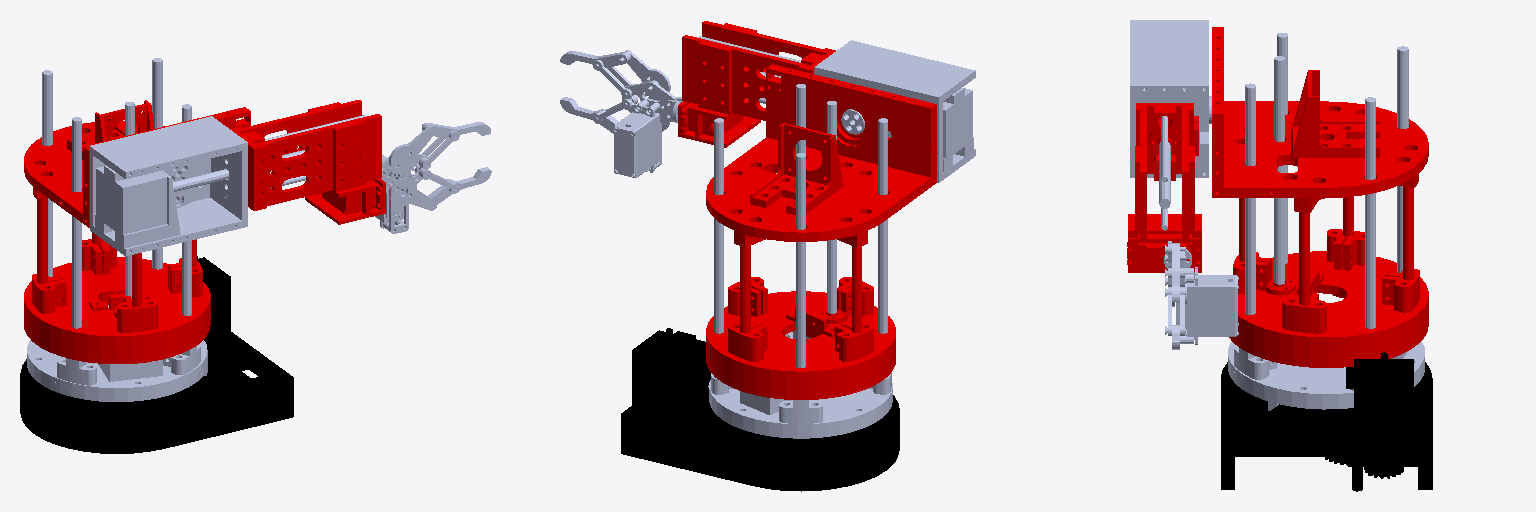
robot.urdf — asabe_robot_description:
<?xml version="1.0" encoding="utf-8"?>
<!-- This URDF was automatically created by SolidWorks to URDF Exporter! Originally created by [author] ([email redacted]) 
     Commit Version: 1.6.0-4-g7f85cfe  Build Version: 1.6.7995.38578
     For more information, please see http://wiki.ros.org/sw_urdf_exporter -->
<robot
  name="asabe_robot_description">
  <link
    name="base_link">
    <visual>
      <origin
        xyz="0 0 0"
        rpy="0 0 0" />
      <geometry>
        <mesh
          filename="package://asabe_robot_description/meshes/base_link.STL" />
      </geometry>
      <material
        name="">
        <color
          rgba="0.79216 0.81961 0.93333 1" />
      </material>
    </visual>
    <collision>
      <origin
        xyz="0 0 0"
        rpy="0 0 0" />
      <geometry>
        <mesh
          filename="package://asabe_robot_description/meshes/base_link.STL" />
      </geometry>
    </collision>
  </link>

  <link
    name="base">
    <inertial>
      <origin
        xyz="0.01912 0.0011886 0.0092468"
        rpy="0 0 0" />
      <mass
        value="0.78986" />
      <inertia
        ixx="0.0020986"
        ixy="-1.3798E-07"
        ixz="-2.0391E-05"
        iyy="0.0033408"
        iyz="4.2971E-07"
        izz="0.0053539" />
    </inertial>
    <visual>
      <origin
        xyz="0 0 0"
        rpy="0 0 0" />
      <geometry>
        <mesh
          filename="package://asabe_robot_description/meshes/base_link.STL" />
      </geometry>
      <material
        name="">
        <color
          rgba="0.79216 0.81961 0.93333 1" />
      </material>
    </visual>
    <collision>
      <origin
        xyz="0 0 0"
        rpy="0 0 0" />
      <geometry>
        <mesh
          filename="package://asabe_robot_description/meshes/base_link.STL" />
      </geometry>
    </collision>
  </link>

   <joint
    name="Joint_base"
    type="fixed">
    <origin
      xyz="0 0 0"
      rpy="0 0 0" />
    <parent
      link="base_link" />
    <child
      link="base" />
    <axis
      xyz="0 0 0" />
  </joint>

  <link
    name="Link_arm1">
    <inertial>
      <origin
        xyz="0.033146 0.009228 0.027122"
        rpy="0 0 0" />
      <mass
        value="0.52977" />
      <inertia
        ixx="0.00086749"
        ixy="-2.5625E-05"
        ixz="-1.7029E-05"
        iyy="0.0010469"
        iyz="3.1451E-06"
        izz="0.0018174" />
    </inertial>
    <visual>
      <origin
        xyz="0 0 0"
        rpy="0 0 0" />
      <geometry>
        <mesh
          filename="package://asabe_robot_description/meshes/Link_arm1.STL" />
      </geometry>
      <material
        name="">
        <color
          rgba="0 0 0 1" />
      </material>
    </visual>
    <collision>
      <origin
        xyz="0 0 0"
        rpy="0 0 0" />
      <geometry>
        <mesh
          filename="package://asabe_robot_description/meshes/Link_arm1.STL" />
      </geometry>
    </collision>
  </link>

  <joint
    name="Joint_arm1"
    type="fixed">
    <origin
      xyz="-0.084 0 0"
      rpy="0 0 0" />
    <parent
      link="base" />
    <child
      link="Link_arm1" />
    <axis
      xyz="0 0 0" />
  </joint>


  <link
    name="Link_arm2">
    <inertial>
      <origin
        xyz="-0.0012502 -0.0044304 0.035885"
        rpy="0 0 0" />
      <mass
        value="0.38055" />
      <inertia
        ixx="0.00059052"
        ixy="3.1075E-06"
        ixz="4.3079E-07"
        iyy="0.00059801"
        iyz="5.6852E-07"
        izz="0.00046663" />
    </inertial>
    <visual>
      <origin
        xyz="0 0 0"
        rpy="0 0 0" />
      <geometry>
        <mesh
          filename="package://asabe_robot_description/meshes/Link_arm2.STL" />
      </geometry>
      <material
        name="">
        <color
          rgba="0.79216 0.81961 0.93333 1" />
      </material>
    </visual>
    <collision>
      <origin
        xyz="0 0 0"
        rpy="0 0 0" />
      <geometry>
        <mesh
          filename="package://asabe_robot_description/meshes/Link_arm2.STL" />
      </geometry>
    </collision>
  </link>

  <joint
    name="Joint_arm2"
    type="revolute">
    <origin
      xyz="0 0 0.035"
      rpy="0 0 0" />
    <parent
      link="Link_arm1" />
    <child
      link="Link_arm2" />
    <axis
      xyz="0 0 -1" />
    <limit
      lower="0"
      upper="5.0"
      velocity="0.5" 
      effort="0"/>
  </joint>


  <link
    name="Link_arm3">
    <inertial>
      <origin
        xyz="-0.00014558 -0.012857 0.080902"
        rpy="0 0 0" />
      <mass
        value="0.52829" />
      <inertia
        ixx="0.00092741"
        ixy="3.0845E-06"
        ixz="2.0717E-07"
        iyy="0.00083924"
        iyz="0.0001015"
        izz="0.0015259" />
    </inertial>
    <visual>
      <origin
        xyz="0 0 0"
        rpy="0 0 0" />
      <geometry>
        <mesh
          filename="package://asabe_robot_description/meshes/Link_arm3.STL" />
      </geometry>
      <material
        name="">
        <color
          rgba="1 0 0 1" />
      </material>
    </visual>
    <collision>
      <origin
        xyz="0 0 0"
        rpy="0 0 0" />
      <geometry>
        <mesh
          filename="package://asabe_robot_description/meshes/Link_arm3.STL" />
      </geometry>
    </collision>
  </link>

  <joint
    name="Joint_arm3"
    type="prismatic">
    <origin
      xyz="0 0 0.0405"
      rpy="0 0 0" />
    <parent
      link="Link_arm2" />
    <child
      link="Link_arm3" />
    <axis
      xyz="0 0 1" />
    <limit
      lower="0"
      upper="0.18"
      velocity="0.03" 
      effort="0"/>
  </joint>


  <link
    name="Link_arm4">
    <inertial>
      <origin
        xyz="-0.021335 0.0014098 -0.024892"
        rpy="0 0 0" />
      <mass
        value="0.23793" />
      <inertia
        ixx="0.00016138"
        ixy="-6.1184E-07"
        ixz="2.2904E-06"
        iyy="0.00030915"
        iyz="-5.1236E-07"
        izz="0.00036857" />
    </inertial>
    <visual>
      <origin
        xyz="0 0 0"
        rpy="0 0 0" />
      <geometry>
        <mesh
          filename="package://asabe_robot_description/meshes/Link_arm4.STL" />
      </geometry>
      <material
        name="">
        <color
          rgba="0.79216 0.81961 0.93333 1" />
      </material>
    </visual>
    <collision>
      <origin
        xyz="0 0 0"
        rpy="0 0 0" />
      <geometry>
        <mesh
          filename="package://asabe_robot_description/meshes/Link_arm4.STL" />
      </geometry>
    </collision>
  </link>

  <joint
    name="Joint_arm4"
    type="revolute">
    <origin
      xyz="0 -0.0835 0.16784"
      rpy="-1.5708 0 0" />
    <parent
      link="Link_arm3" />
    <child
      link="Link_arm4" />
    <axis
      xyz="0 0 1" />
    <limit
      lower="0"
      upper="1.5708"
      effort="0"
      velocity="0.5" />
  </joint>


  <link
    name="Link_arm5">
    <inertial>
      <origin
        xyz="0.00033505 -0.013271 0.067796"
        rpy="0 0 0" />
      <mass
        value="0.12412" />
      <inertia
        ixx="9.7134E-05"
        ixy="3.5937E-15"
        ixz="-2.6794E-08"
        iyy="7.7548E-05"
        iyz="2.0589E-06"
        izz="4.6907E-05" />
    </inertial>
    <visual>
      <origin
        xyz="0 0 0"
        rpy="3.14159 0 0" />
      <geometry>
        <mesh
          filename="package://asabe_robot_description/meshes/Link_arm5.STL" />
      </geometry>
      <material
        name="">
        <color
          rgba="1 0 0 1" />
      </material>
    </visual>
    <collision>
      <origin
        xyz="0 0 0"
        rpy="3.14159 0 0" />
      <geometry>
        <mesh
          filename="package://asabe_robot_description/meshes/Link_arm5.STL" />
      </geometry>
    </collision>
  </link>

  <joint
    name="Joint_arm5"
    type="prismatic">
    <origin
      xyz="0.0445 0 -0.031"
      rpy="0 -1.5708 0" />
    <parent
      link="Link_arm4" />
    <child
      link="Link_arm5" />
    <axis
      xyz="0 0 -1" />
    <limit
      lower="0"
      upper="0.1"
      effort="0"
      velocity="0.03" />
  </joint>


  <link
    name="Link_arm6">
    <inertial>
      <origin
        xyz="0.008683 -0.014046 0.034385"
        rpy="0 0 0" />
      <mass
        value="0.043811" />
      <inertia
        ixx="9.1016E-06"
        ixy="7.2728E-08"
        ixz="4.0116E-09"
        iyy="4.5879E-06"
        iyz="-5.5331E-08"
        izz="6.5899E-06" />
    </inertial>
    <visual>
      <origin
        xyz="0 0 0"
        rpy="0 0 0" />
      <geometry>
        <mesh
          filename="package://asabe_robot_description/meshes/Link_arm6.STL" />
      </geometry>
      <material
        name="">
        <color
          rgba="0.79216 0.81961 0.93333 1" />
      </material>
    </visual>
    <collision>
      <origin
        xyz="0 0 0"
        rpy="0 0 0" />
      <geometry>
        <mesh
          filename="package://asabe_robot_description/meshes/Link_arm6.STL" />
      </geometry>
    </collision>
  </link>

  <joint
    name="Joint_arm6"
    type="fixed">
    <origin
      xyz="0.0094 0.0397 -0.12045"
      rpy="0 3.14159 3.14159" />
    <parent
      link="Link_arm5" />
    <child
      link="Link_arm6" />
    <axis
      xyz="0 0 1" />
    <limit
      lower="-3.14"
      upper="3.14"
      effort="0"
      velocity="0" />
  </joint>

    <link
    name="grasp_point">
  </link>

  <joint
    name="Joint_grasp_point"
    type="fixed">
    <origin
      xyz="0 0 0.1"
      rpy="3.14159 -1.5707 0" />
    <parent
      link="Link_arm6" />
    <child
      link="grasp_point" />
    <axis
      xyz="0 0 0" />
  </joint>

  <ros2_control name="asabe_robot_description" type="system">
    <hardware>
      <plugin>stepper_hardware/StepperHardware</plugin>
      <param name="usb_port">/dev/ttyUSB0</param>
      <param name="baud_rate">57600</param>
    </hardware>

    <joint name="Joint_arm2">
      <command_interface name="position"/>
      <command_interface name="velocity"/>
      <state_interface name="position"/>
      <state_interface name="velocity"/>\
    </joint>

    <joint name="Joint_arm3">
      <command_interface name="position"/>
      <command_interface name="velocity"/>
      <state_interface name="position"/>
      <state_interface name="velocity"/>\
    </joint>

    <joint name="Joint_arm4">
      <command_interface name="position"/>
      <command_interface name="velocity"/>
      <state_interface name="position"/>
      <state_interface name="velocity"/>
    </joint>

    <joint name="Joint_arm5">
      <command_interface name="position"/>
      <command_interface name="velocity"/>
      <state_interface name="position"/>
      <state_interface name="velocity"/>
    </joint>

  </ros2_control>

</robot>

--- Render facts (derived) ---
The picture shows the robot from 3 angles, left to right: view 1: azimuth 30°, elevation 25°; view 2: azimuth 150°, elevation 25°; view 3: azimuth 270°, elevation 25°; orthographic projection.
Model asabe_robot_description with 9 links and 8 joints (2 revolute, 2 prismatic, 4 fixed), rooted at base_link, posed all joints at 0.
Links seen in each view (by area): view 1: Link_arm3, Link_arm1, Link_arm4, Link_arm5, Link_arm2, Link_arm6; view 2: Link_arm3, Link_arm1, Link_arm2, Link_arm5, Link_arm4, Link_arm6; view 3: Link_arm3, Link_arm1, Link_arm2, Link_arm4, Link_arm5, Link_arm6.
Link boxes in pixels (left/top/right/bottom): Link_arm3: left=24, top=100, right=250, bottom=363; Link_arm1: left=20, top=256, right=293, bottom=453; Link_arm4: left=90, top=115, right=366, bottom=255; Link_arm5: left=230, top=100, right=385, bottom=224; Link_arm2: left=27, top=58, right=207, bottom=401; Link_arm6: left=375, top=122, right=491, bottom=233; Link_arm3: left=706, top=64, right=936, bottom=399; Link_arm1: left=621, top=328, right=899, bottom=491; Link_arm2: left=709, top=84, right=892, bottom=438; Link_arm5: left=678, top=21, right=835, bottom=147; Link_arm4: left=698, top=36, right=975, bottom=182; Link_arm6: left=560, top=50, right=682, bottom=177; Link_arm3: left=1212, top=27, right=1428, bottom=367; Link_arm1: left=1221, top=352, right=1432, bottom=491; Link_arm2: left=1228, top=33, right=1424, bottom=410; Link_arm4: left=1130, top=20, right=1211, bottom=230; Link_arm5: left=1127, top=103, right=1201, bottom=272; Link_arm6: left=1164, top=241, right=1238, bottom=349.
Size in the robot's own frame: 0.3466 by 0.216 by 0.305 metres.
Meshes: 7 distinct files referenced, 6 mesh visuals loaded (6 binary STL); not drawn: 2 (file found but could not be loaded).